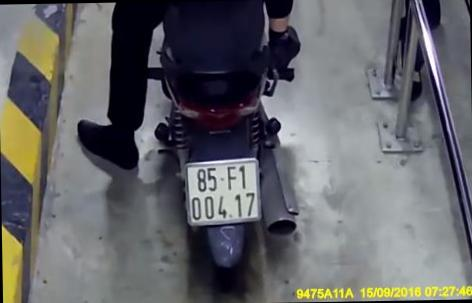LP: (182, 154, 262, 227)
